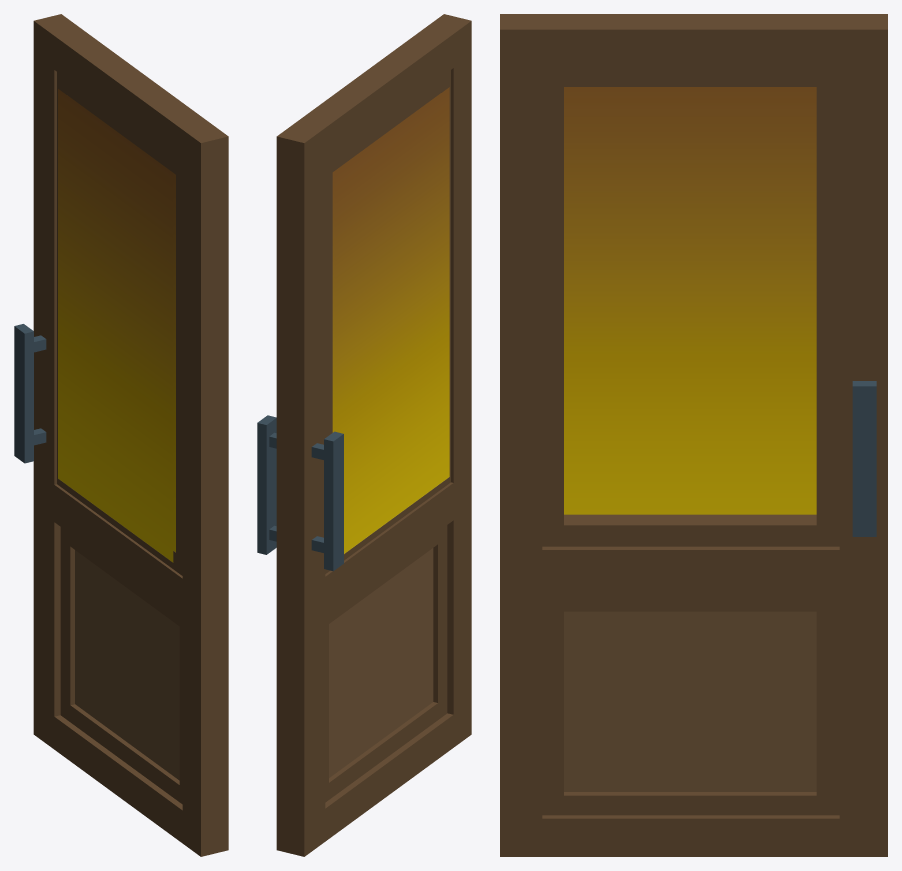
Rendered from SM_Buildings_House_14_Door_L.fbx.
3 renders of one model, left to right at view 1: azimuth 30°, elevation 25°; view 2: azimuth 150°, elevation 25°; view 3: azimuth 270°, elevation 25°, orthographic. The views are drawn at different scales.
Visible parts, largest first — view 1: SM_Buildings_House_14_Door_L; view 2: SM_Buildings_House_14_Door_L; view 3: SM_Buildings_House_14_Door_L.
Part boxes in pixels (x1,y1,x2,y2): SM_Buildings_House_14_Door_L: (14, 14, 228, 856); SM_Buildings_House_14_Door_L: (257, 14, 471, 856); SM_Buildings_House_14_Door_L: (500, 14, 887, 856).
Bounding box in the file's own units: 0.2336 × 2.09 × 0.8881.
